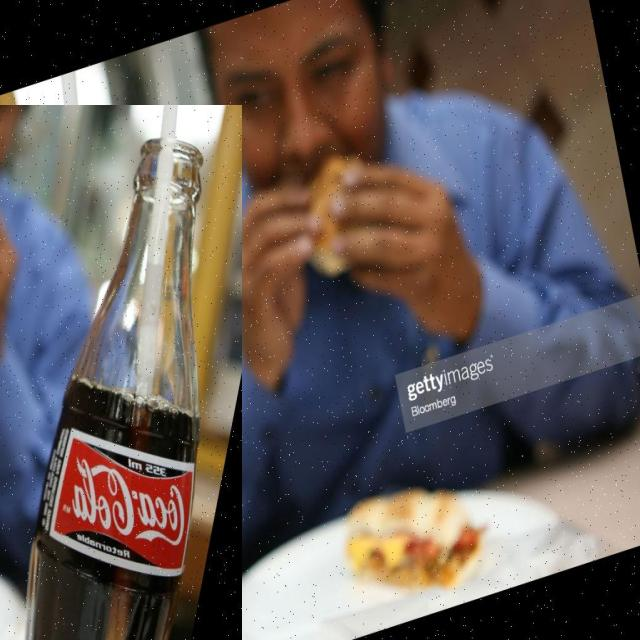coca-cola: (0, 105, 242, 640)
